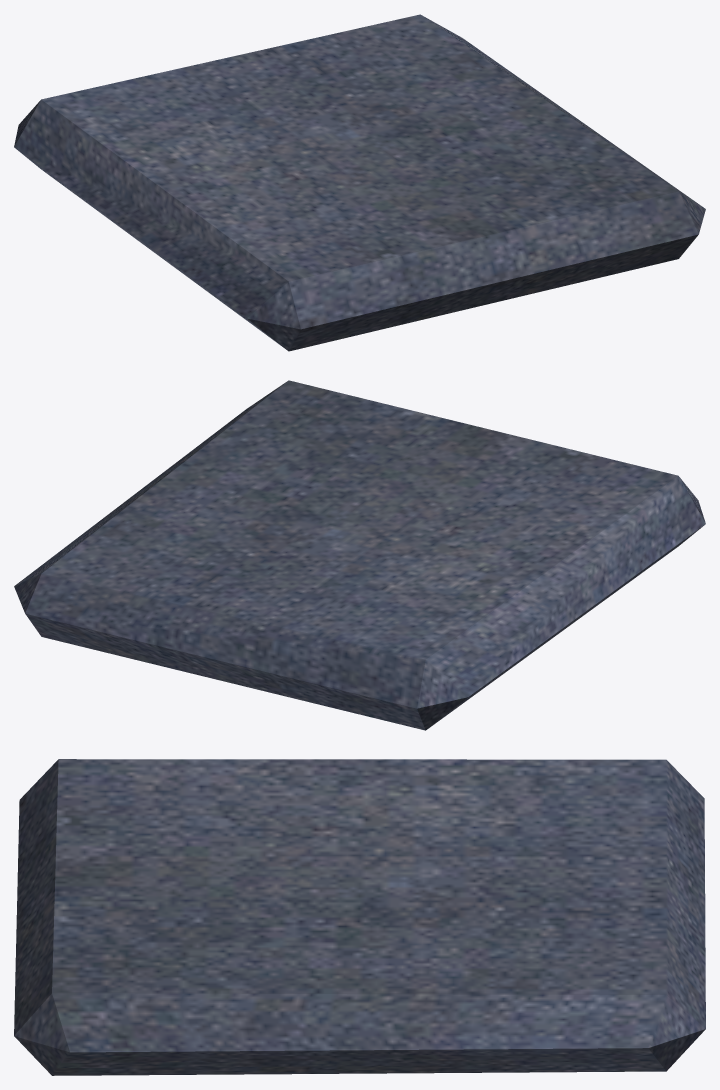
The model's file is frn_all_throwpillow_med_s03_l1.fbx.
The picture shows the model from 3 angles, top to bottom: view 1: azimuth 30°, elevation 25°; view 2: azimuth 150°, elevation 25°; view 3: azimuth 270°, elevation 25°; orthographic projection. The views are drawn at different scales.
Parts seen in each view (by area): view 1: mesh_node; view 2: mesh_node; view 3: mesh_node.
Boxes of the visible parts, left/top/right/bottom form: mesh_node: left=14, top=14, right=705, bottom=351; mesh_node: left=14, top=380, right=705, bottom=730; mesh_node: left=14, top=759, right=705, bottom=1075.
Size of the model in its own units: 1.25 by 0.1832 by 1.34.
